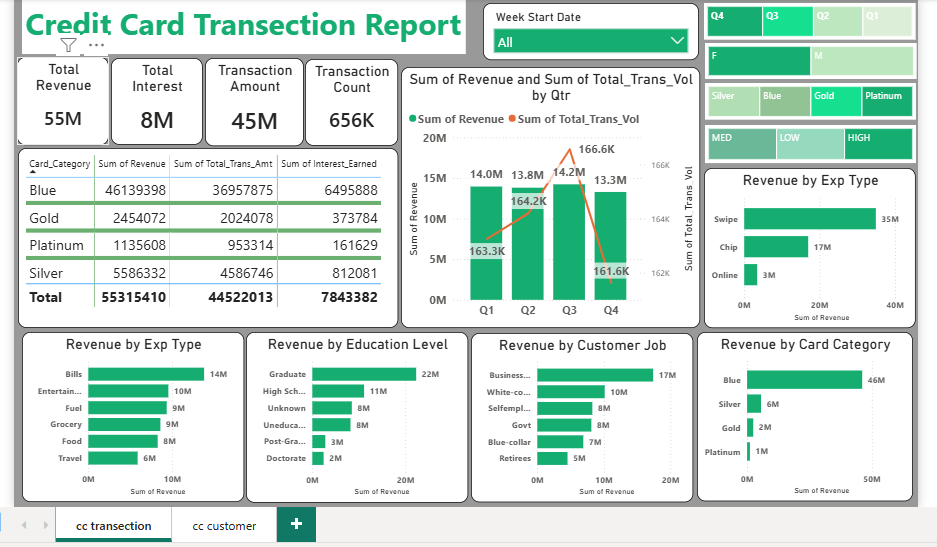

The dashboard page shown, as its layout file describes it:
{"tool":"powerbi","page":{"name":"cc transection","canvas":[1280,720],"ordinal":1},"visuals":[{"type":"textbox","box":[10.8,0,629.2,78.5],"z":0},{"type":"lineStackedColumnComboChart","fields":{"Category":["credit_card.Qtr"],"Y":["Sum(credit_card.Revenue)"],"Y2":["Sum(credit_card.Total_Trans_Vol)"]},"box":[548.5,96,423.8,370],"z":1000},{"type":"barChart","title":"Revenue by Exp Type","fields":{"Y":["Sum(credit_card.Revenue)"],"Category":["credit_card.Exp Type"]},"box":[11,472,315,241],"z":2000},{"type":"barChart","title":"Revenue by Education Level","fields":{"Y":["Sum(credit_card.Revenue)"],"Category":["customer details.Education_Level"]},"box":[329,472.3,315,241.5],"z":3000},{"type":"barChart","title":"Revenue by Customer Job","fields":{"Y":["Sum(credit_card.Revenue)"],"Category":["customer details.Customer_Job"]},"box":[648,473.8,315,240],"z":4000},{"type":"barChart","title":"Revenue by Card Category","fields":{"Y":["Sum(credit_card.Revenue)"],"Category":["credit_card.Card_Category"]},"box":[967.7,472.3,306.2,240],"z":5000},{"type":"barChart","title":"Revenue by Exp Type","fields":{"Y":["Sum(credit_card.Revenue)"],"Category":["credit_card.Use Chip"]},"box":[978,239.5,300.5,226.8],"z":6000},{"type":"tableEx","fields":{"Values":["credit_card.Card_Category","Sum(credit_card.Revenue)","Sum(credit_card.Total_Trans_Amt)","Sum(credit_card.Interest_Earned)"]},"box":[6,210.8,539,255],"z":7000},{"type":"cardVisual","title":"Total Revenue","fields":{"Data":["Sum(credit_card.Revenue)"]},"box":[4,82,130.4,124.7],"z":8000},{"type":"cardVisual","title":"Total Interest","fields":{"Data":["Sum(credit_card.Interest_Earned)"]},"box":[138,83,130,123],"z":9000},{"type":"cardVisual","title":"Transaction Amount","fields":{"Data":["Sum(credit_card.Total_Trans_Amt)"]},"box":[270,83,140.3,124.7],"z":10000},{"type":"cardVisual","title":"Transaction Count","fields":{"Data":["Sum(credit_card.Total_Trans_Vol)"]},"box":[413,85,132,123.3],"z":11000},{"type":"slicer","fields":{"Values":["credit_card.Week_Start_Date"]},"box":[664.7,5.7,306.1,80.8],"z":12000},{"type":"treemap","fields":{"Group":["credit_card.Qtr"],"Values":["Avg(customer details.Client_Num)"]},"box":[978,6.2,300,52.3],"z":13000},{"type":"treemap","fields":{"Values":["Avg(customer details.Client_Num)"],"Group":["customer details.Gender"]},"box":[979.4,62.4,300.5,51],"z":14000},{"type":"treemap","fields":{"Values":["Avg(customer details.Client_Num)"],"Group":["credit_card.Card_Category"]},"box":[979.4,119.1,299.1,52.4],"z":15000},{"type":"treemap","fields":{"Values":["Avg(customer details.Client_Num)"],"Group":["customer details.IncomeGroup"]},"box":[979.4,178.6,299.1,53.9],"z":16000}]}

Visuals, with their boxes in screenshot pixels (x1, y1, x2, y2):
textbox: {"x1": 25, "y1": 0, "x2": 463, "y2": 55}
lineStackedColumnComboChart - credit_card.Qtr x Sum(credit_card.Revenue): {"x1": 399, "y1": 67, "x2": 694, "y2": 324}
"Revenue by Exp Type" barChart: {"x1": 25, "y1": 329, "x2": 244, "y2": 496}
"Revenue by Education Level" barChart: {"x1": 246, "y1": 329, "x2": 466, "y2": 497}
"Revenue by Customer Job" barChart: {"x1": 468, "y1": 330, "x2": 688, "y2": 497}
"Revenue by Card Category" barChart: {"x1": 691, "y1": 329, "x2": 904, "y2": 496}
"Revenue by Exp Type" barChart: {"x1": 698, "y1": 167, "x2": 907, "y2": 325}
tableEx - credit_card.Card_Category x Sum(credit_card.Revenue): {"x1": 21, "y1": 147, "x2": 397, "y2": 324}
"Total Revenue" cardVisual: {"x1": 20, "y1": 57, "x2": 111, "y2": 144}
"Total Interest" cardVisual: {"x1": 113, "y1": 58, "x2": 204, "y2": 143}
"Transaction Amount" cardVisual: {"x1": 205, "y1": 58, "x2": 303, "y2": 145}
"Transaction Count" cardVisual: {"x1": 305, "y1": 59, "x2": 397, "y2": 145}
slicer - credit_card.Week_Start_Date: {"x1": 480, "y1": 4, "x2": 693, "y2": 60}
treemap - credit_card.Qtr x Avg(customer details.Client_Num): {"x1": 698, "y1": 4, "x2": 907, "y2": 41}
treemap - Avg(customer details.Client_Num) x customer details.Gender: {"x1": 699, "y1": 43, "x2": 908, "y2": 79}
treemap - Avg(customer details.Client_Num) x credit_card.Card_Category: {"x1": 699, "y1": 83, "x2": 907, "y2": 119}
treemap - Avg(customer details.Client_Num) x customer details.IncomeGroup: {"x1": 699, "y1": 124, "x2": 907, "y2": 162}
